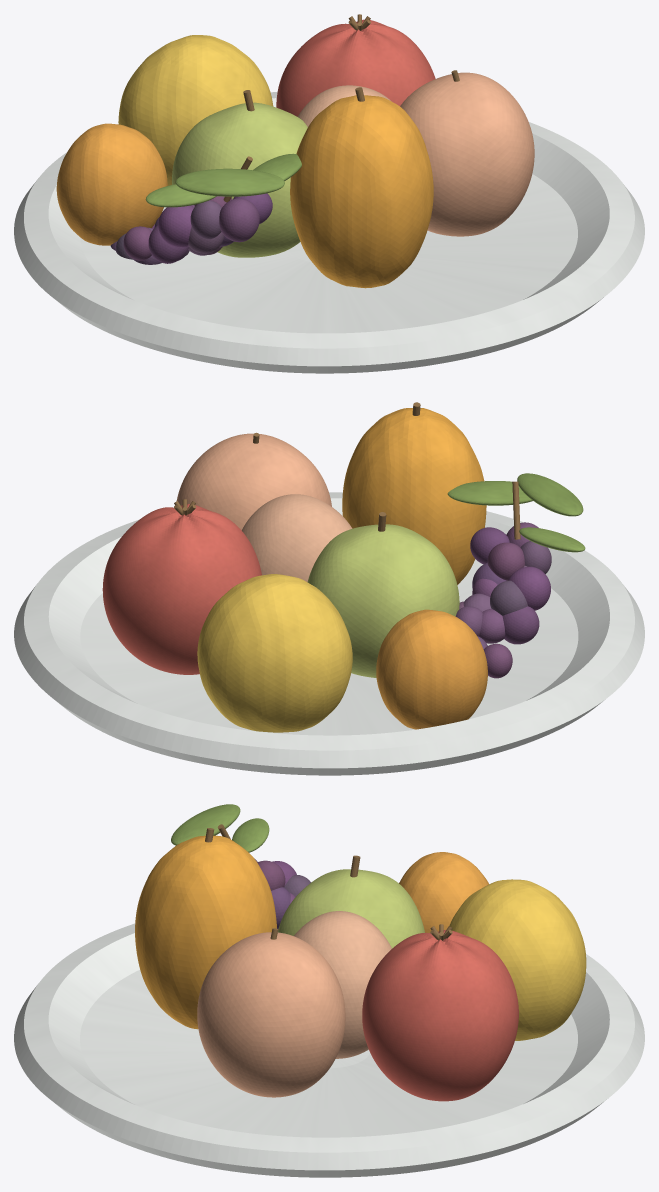
Rendered from fruits-clean-v2.glb.
3 renders of one model, top to bottom at view 1: azimuth 30°, elevation 25°; view 2: azimuth 150°, elevation 25°; view 3: azimuth 270°, elevation 25°, orthographic.
Visible parts, largest first — view 1: hand_finished_plate, orange_back, peach_right, golden_front, small_orange, green_apple, pomegranate_right, leaf_1, grape_0_1, grape_1_2, peach_center, leaf_3 (+5 smaller); view 2: hand_finished_plate, golden_front, pomegranate_right, orange_back, green_apple, small_orange, peach_right, peach_center, leaf_1, leaf_2, grape_1_2, grape_2_1 (+7 smaller); view 3: hand_finished_plate, pomegranate_right, peach_right, orange_back, golden_front, green_apple, peach_center, small_orange, leaf_1, leaf_3, grape_0_3.
Part boxes in pixels (left/top/right/bottom): hand_finished_plate: left=14, top=92, right=644, bottom=373; orange_back: left=290, top=95, right=433, bottom=288; peach_right: left=400, top=72, right=534, bottom=236; golden_front: left=118, top=35, right=273, bottom=185; small_orange: left=56, top=123, right=167, bottom=245; green_apple: left=172, top=102, right=307, bottom=257; pomegranate_right: left=276, top=19, right=435, bottom=116; leaf_1: left=175, top=168, right=284, bottom=196; grape_0_1: left=219, top=198, right=259, bottom=242; grape_1_2: left=158, top=205, right=194, bottom=247; peach_center: left=297, top=85, right=391, bottom=126; leaf_3: left=145, top=184, right=216, bottom=207; hand_finished_plate: left=14, top=492, right=644, bottom=775; golden_front: left=197, top=574, right=352, bottom=732; pomegranate_right: left=102, top=504, right=261, bottom=674; orange_back: left=342, top=408, right=486, bottom=584; green_apple: left=307, top=524, right=459, bottom=677; small_orange: left=376, top=609, right=487, bottom=729; peach_right: left=176, top=433, right=331, bottom=530; peach_center: left=242, top=494, right=352, bottom=582; leaf_1: left=517, top=473, right=583, bottom=516; leaf_2: left=447, top=481, right=532, bottom=505; grape_1_2: left=508, top=566, right=550, bottom=610; grape_2_1: left=502, top=606, right=539, bottom=644; hand_finished_plate: left=14, top=923, right=644, bottom=1177; pomegranate_right: left=362, top=930, right=518, bottom=1101; peach_right: left=197, top=932, right=345, bottom=1097; orange_back: left=135, top=835, right=276, bottom=1029; golden_front: left=449, top=879, right=586, bottom=1040; green_apple: left=278, top=869, right=424, bottom=948; peach_center: left=294, top=911, right=391, bottom=1058; small_orange: left=399, top=852, right=488, bottom=932; leaf_1: left=171, top=804, right=240, bottom=845; leaf_3: left=232, top=818, right=269, bottom=852; grape_0_3: left=257, top=860, right=285, bottom=890.
Bounding box in the file's own units: 0.38 × 0.1515 × 0.38.
